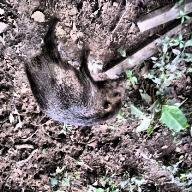boar: (17, 21, 141, 149)
